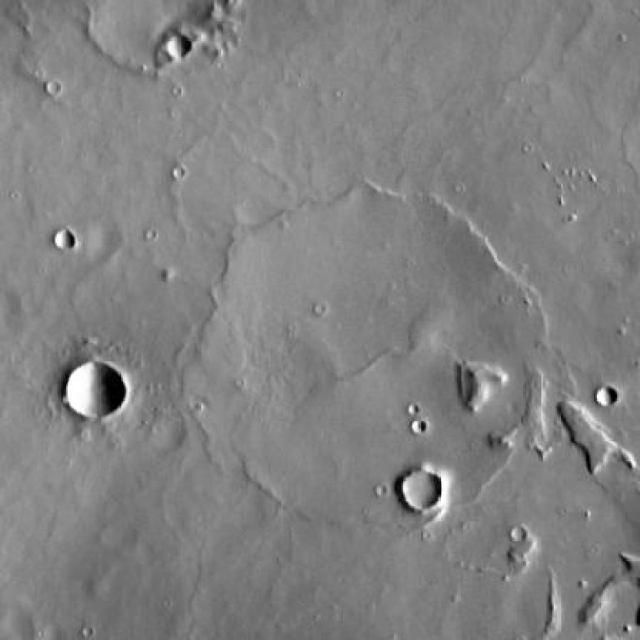crater: (203, 197, 546, 528), (63, 362, 125, 420), (394, 471, 434, 509), (146, 419, 182, 453), (0, 612, 25, 640), (166, 36, 192, 61), (52, 232, 72, 252), (596, 388, 616, 406), (507, 522, 524, 538)
